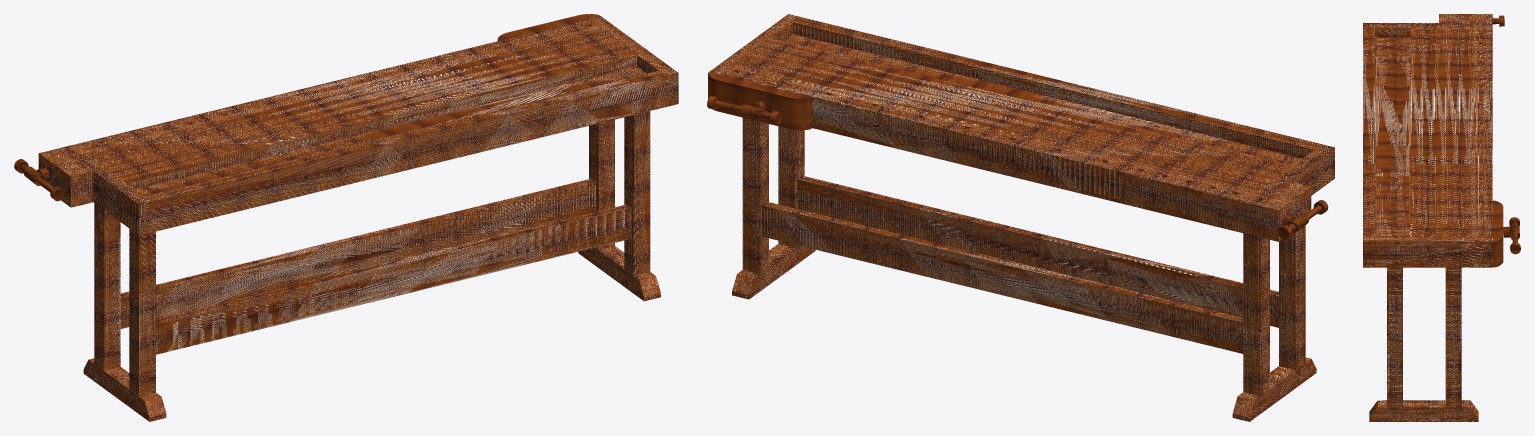
3 renders of one model, left to right at view 1: azimuth 30°, elevation 25°; view 2: azimuth 150°, elevation 25°; view 3: azimuth 270°, elevation 25°, orthographic. The views are drawn at different scales.
Visible parts, largest first — view 1: mesh3_mesh3-geometry, mesh1_mesh1-geometry, mesh4_mesh4-geometry; view 2: mesh3_mesh3-geometry, mesh1_mesh1-geometry, mesh6_mesh6-geometry; view 3: mesh3_mesh3-geometry, mesh1_mesh1-geometry, mesh6_mesh6-geometry.
Boxes of the visible parts, x1=… form: mesh3_mesh3-geometry: x1=38, y1=16, x2=678, y2=421; mesh1_mesh1-geometry: x1=497, y1=14, x2=600, y2=40; mesh4_mesh4-geometry: x1=20, y1=164, x2=64, y2=201; mesh3_mesh3-geometry: x1=709, y1=14, x2=1334, y2=421; mesh1_mesh1-geometry: x1=708, y1=72, x2=812, y2=130; mesh6_mesh6-geometry: x1=707, y1=95, x2=771, y2=120; mesh3_mesh3-geometry: x1=1363, y1=14, x2=1492, y2=421; mesh1_mesh1-geometry: x1=1492, y1=200, x2=1503, y2=267; mesh6_mesh6-geometry: x1=1510, y1=222, x2=1520, y2=254.
Bounding box in the file's own units: 0.9067 × 0.3342 × 0.2573.
